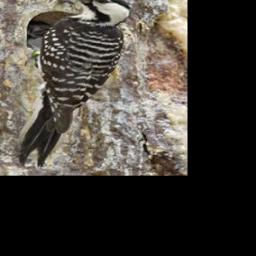Woodpecker: (14, 0, 133, 168)
